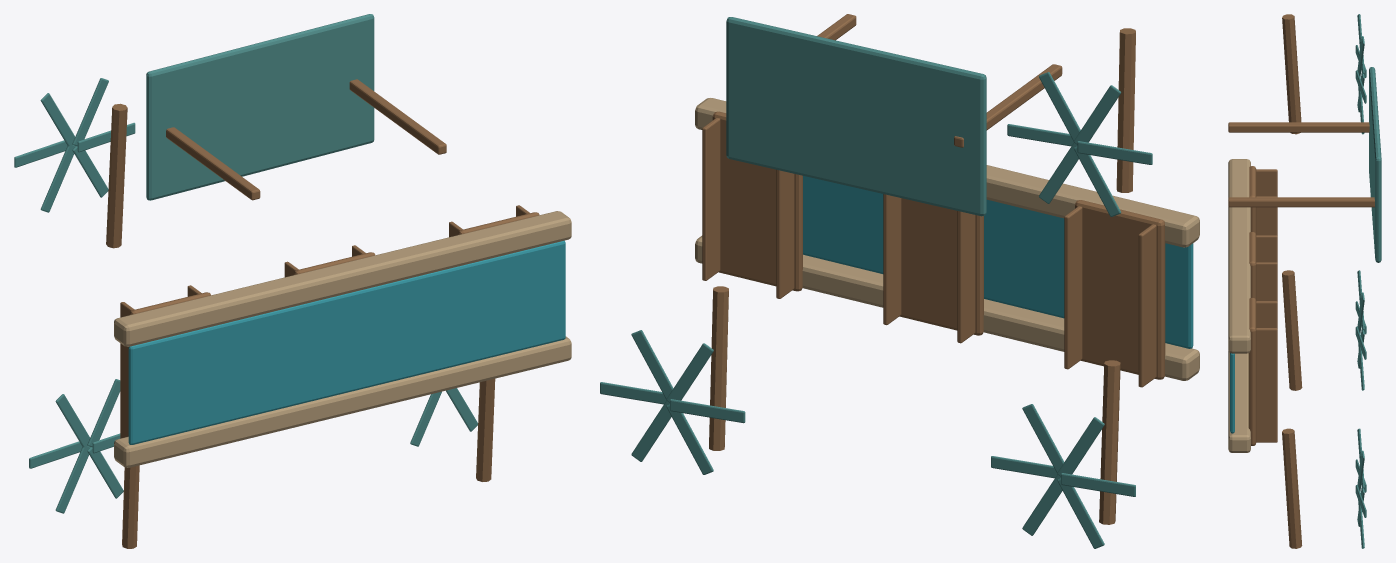
The model's file is region-oasis-landmark.glb.
3 renders of one model, left to right at view 1: azimuth 30°, elevation 25°; view 2: azimuth 150°, elevation 25°; view 3: azimuth 270°, elevation 25°, orthographic. The views are drawn at different scales.
Visible parts, largest first — view 1: recessed canal water, woven caravan canopy, canal dressed bank.001, canal dressed bank, date palm trunk.002, date palm trunk.001, pavilion timber post.001, pavilion timber post, date palm trunk, bridge side rail, palm leaf.013, palm leaf.004 (+2 smaller); view 2: woven caravan canopy, recessed canal water, caravan footbridge, caravan footbridge.002, caravan footbridge.001, canal dressed bank, canal dressed bank.001, bridge side rail.001, bridge side rail, bridge side rail.005, date palm trunk, date palm trunk.002 (+23 smaller); view 3: canal dressed bank.001, bridge side rail.005, woven caravan canopy, canal dressed bank, pavilion timber post.001, date palm trunk, date palm trunk.001, pavilion timber post, date palm trunk.002, caravan footbridge.002, bridge side rail.003, bridge side rail.001 (+6 smaller).
Part boxes in pixels (x1,y1,x2,y2): recessed canal water: (128,240,565,444); woven caravan canopy: (146,14,374,200); canal dressed bank.001: (114,211,571,346); canal dressed bank: (114,336,571,467); date palm trunk.002: (106,103,127,248); date palm trunk.001: (476,378,495,481); pavilion timber post.001: (349,79,446,154); pavilion timber post: (166,127,260,200); date palm trunk: (122,465,139,548); bridge side rail: (120,302,134,438); palm leaf.013: (72,78,108,146); palm leaf.004: (55,446,90,513); woven caravan canopy: (726,17,986,216); recessed canal water: (803,176,1193,348); caravan footbridge: (1075,200,1165,379); caravan footbridge.002: (712,111,802,291); caravan footbridge.001: (899,198,983,335); canal dressed bank: (695,235,1199,380); canal dressed bank.001: (695,98,1199,247); bridge side rail.001: (1064,206,1082,369); bridge side rail: (1138,224,1156,387); bridge side rail.005: (702,118,720,280); date palm trunk: (1099,360,1120,524); date palm trunk.002: (1116,28,1135,192); canal dressed bank.001: (1228,159,1250,353); bridge side rail.005: (1256,328,1277,442); woven caravan canopy: (1369,67,1381,262); canal dressed bank: (1228,350,1250,452); pavilion timber post.001: (1228,197,1374,207); date palm trunk: (1282,270,1302,390); date palm trunk.001: (1282,428,1302,548); pavilion timber post: (1228,122,1369,132); date palm trunk.002: (1282,14,1301,134); caravan footbridge.002: (1248,297,1256,445); bridge side rail.003: (1256,262,1277,301); bridge side rail.001: (1256,196,1277,235).
Bounding box in the file's own units: 13.28 × 11.92 × 4.33.
